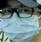with_mask: (1, 2, 41, 42)
